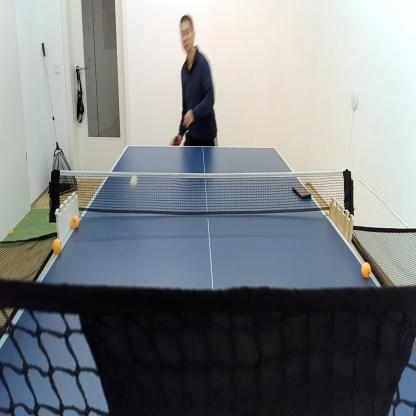Ball: (361, 260, 372, 279), (52, 236, 62, 255), (70, 213, 80, 230), (129, 173, 138, 191), (9, 227, 13, 236), (0, 242, 4, 249)
